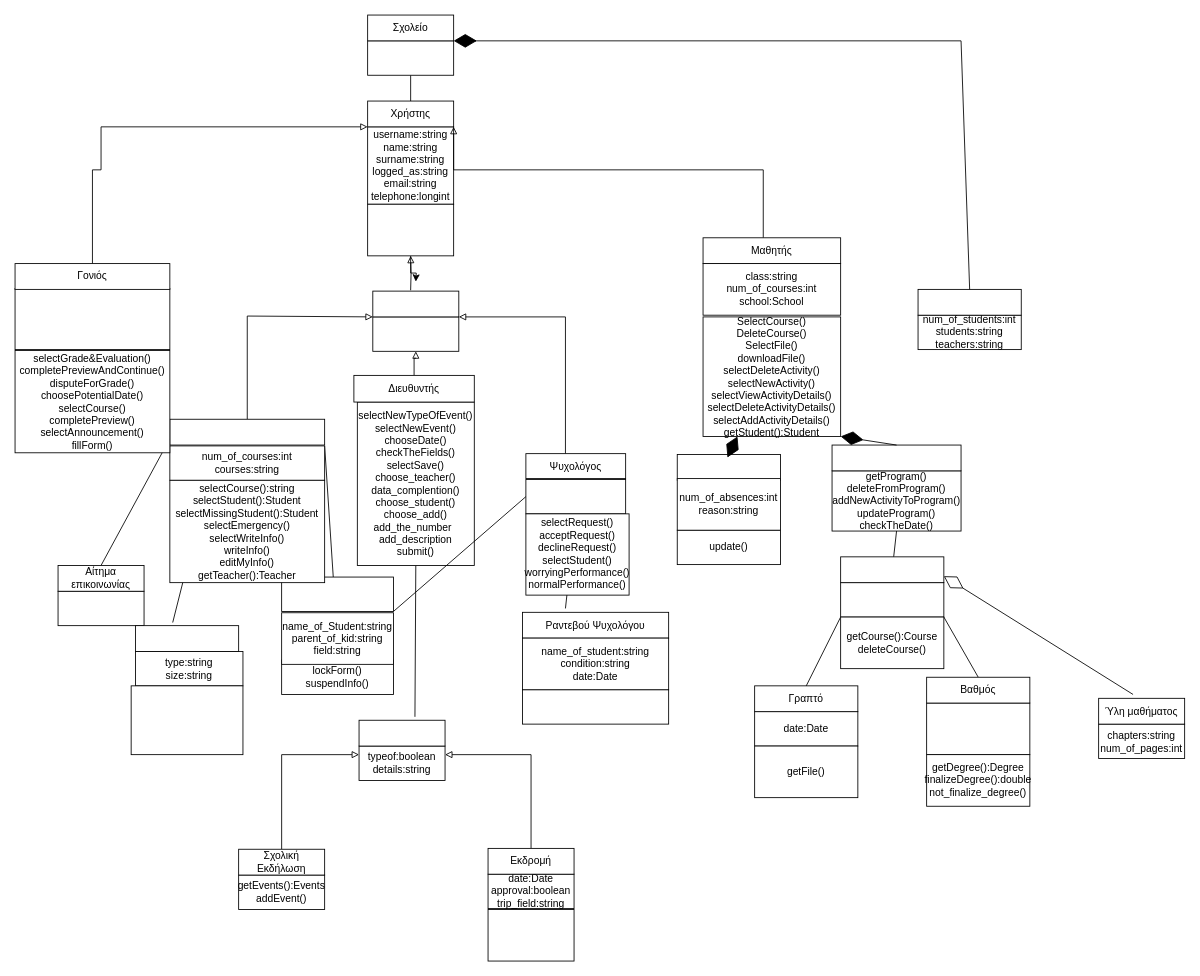
The diagram is 1200 pixels wide and 976 high, and some of its shapes have lost their labels. Each missing label, with the box of its shape:
approveExcursion(): (487, 909, 574, 961)
getFullname():string getName():string getSurname():string getlogged_as:string: (367, 203, 454, 256)
getRequests():ContactRequest setDateAndTime(): (522, 689, 669, 724)
name_of_course:string: (840, 582, 944, 617)
name_of_student:string degree:int comments:string: (926, 702, 1030, 755)
num_of_children:int name_of_child:string: (14, 288, 170, 350)
number:int type:string city:string: (367, 40, 454, 75)
selectFile() checkFileSize():boolean uploadFile() fillDegree() updateDegree(): (130, 685, 243, 755)
works_as:string school:School: (372, 316, 459, 351)
years_work_history:int specialization:string: (525, 479, 626, 514)
Ανακοίνωση: (358, 719, 445, 746)
Απουσία: (676, 454, 780, 480)
Αρχείο: (135, 625, 239, 651)
Εργαζόμενος: (372, 290, 459, 317)
Καθηγητής: (169, 418, 325, 445)
Μάθημα: (840, 556, 944, 583)
Πορεία-Κατάσταση Μαθητή: (281, 576, 393, 611)
Πρόγραμμα μαθητή: (831, 444, 961, 471)
Τάξη: (917, 289, 1021, 315)
